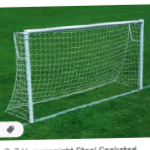goals: (11, 17, 149, 123)
